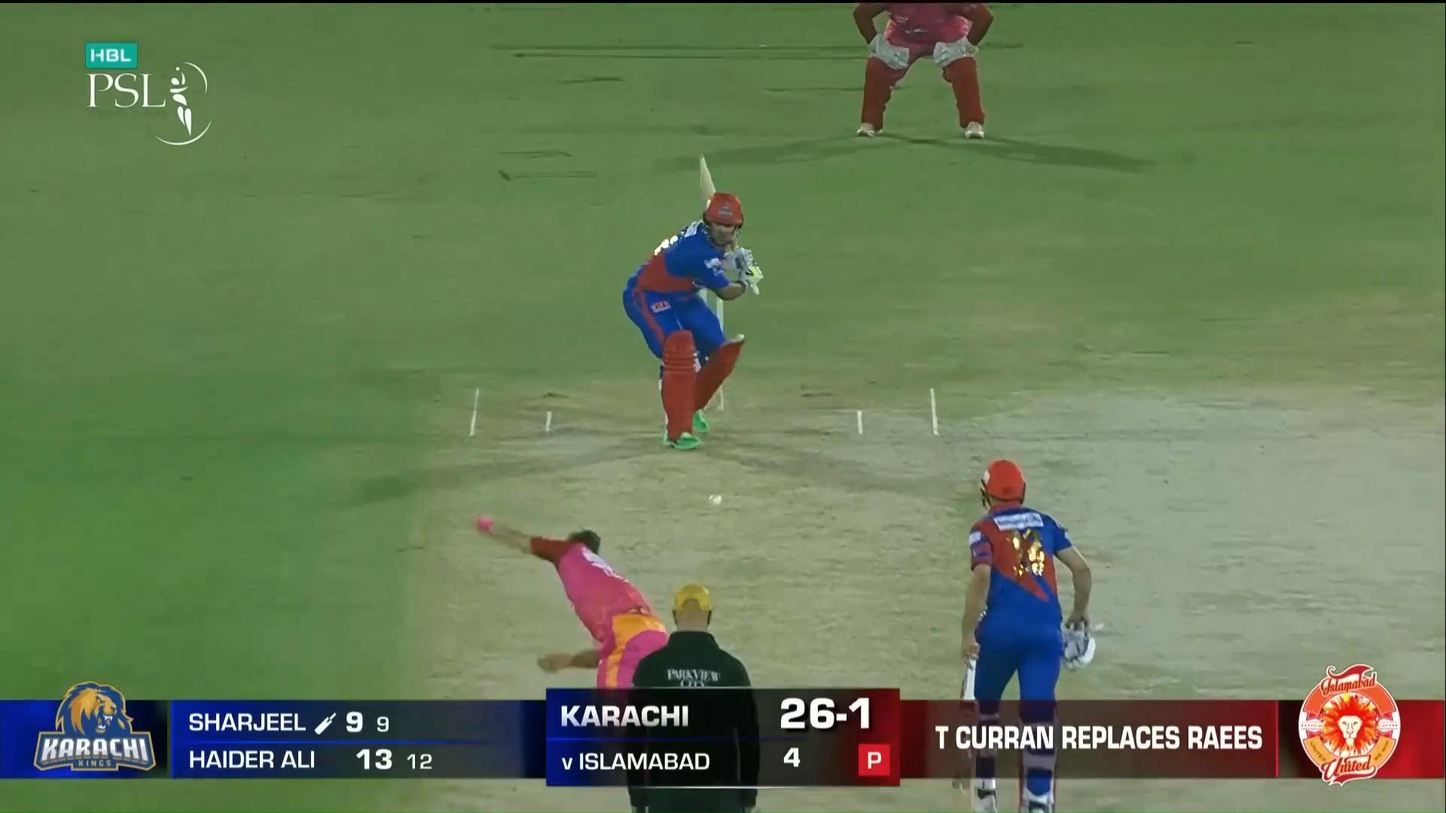batsman: (622, 154, 764, 450)
